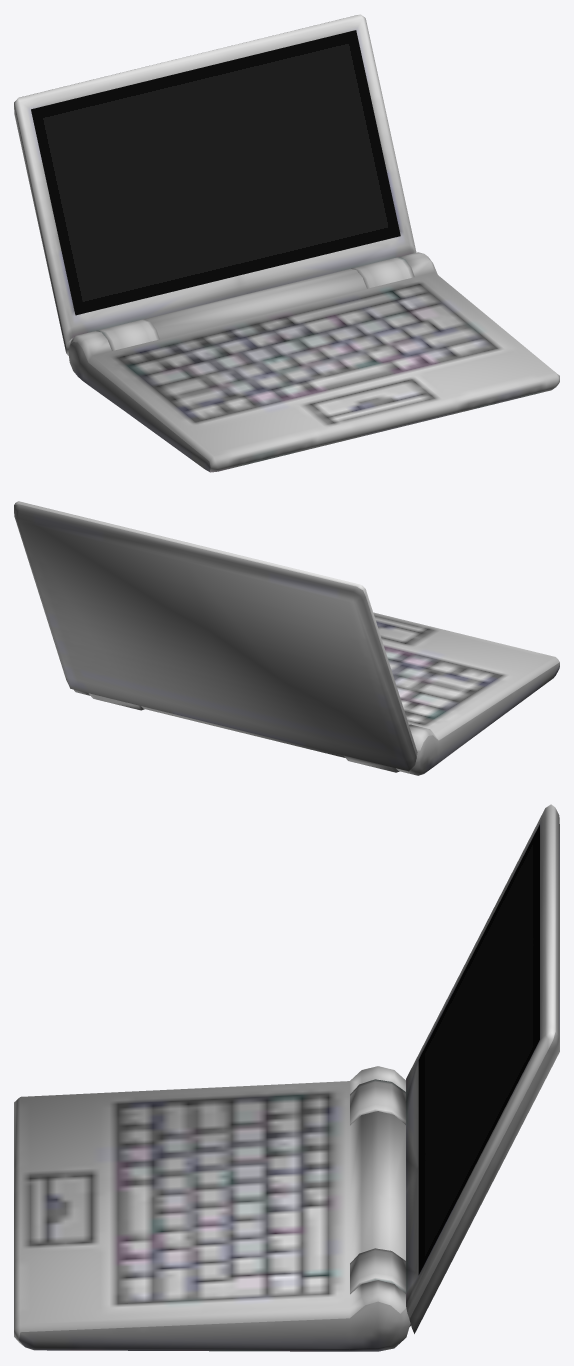
The model's file is rmk_oth_laptop.dae.
3 views of the same model, one above another, from view 1: azimuth 30°, elevation 25°; view 2: azimuth 150°, elevation 25°; view 3: azimuth 270°, elevation 25° (orthographic). The views are drawn at different scales.
Visible parts, largest first — view 1: rmk_oth_laptop; view 2: rmk_oth_laptop; view 3: rmk_oth_laptop.
Part boxes in pixels (<box>): rmk_oth_laptop: <box>14,14,559,472</box>; rmk_oth_laptop: <box>14,501,559,775</box>; rmk_oth_laptop: <box>14,804,559,1351</box>.
Bounding box in the file's own units: 23.8 × 15.33 × 23.63.
Materials: 2 (2 with a texture image).
